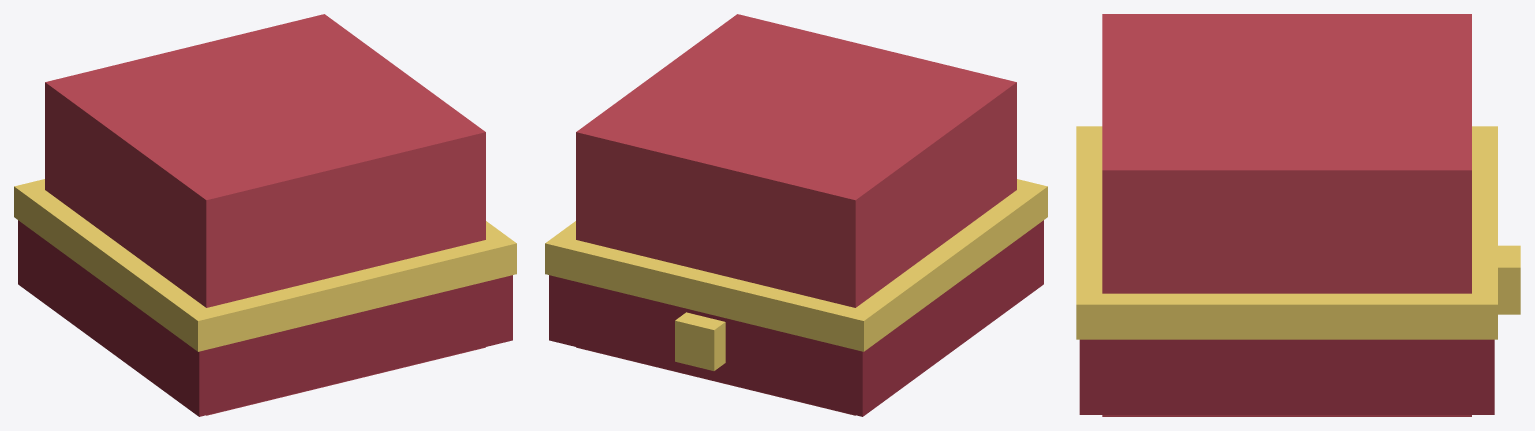
Rendered from capitao_vermelho_manga_inf.glb.
3 views of the same model, side by side, from view 1: azimuth 30°, elevation 25°; view 2: azimuth 150°, elevation 25°; view 3: azimuth 270°, elevation 25° (orthographic). The views are drawn at different scales.
Visible parts, largest first — view 1: capitao_vermelho_manga_inf; view 2: capitao_vermelho_manga_inf; view 3: capitao_vermelho_manga_inf.
Part boxes in pixels (bbox=[...]): capitao_vermelho_manga_inf: bbox=[14, 14, 516, 416]; capitao_vermelho_manga_inf: bbox=[545, 14, 1047, 416]; capitao_vermelho_manga_inf: bbox=[1076, 14, 1520, 416].
Bounding box in the file's own units: 0.325 × 0.21 × 0.3425.
